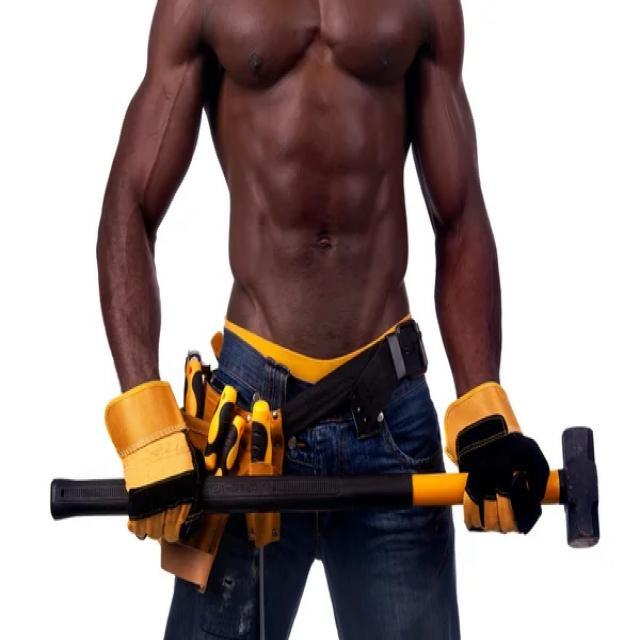hammer: (45, 412, 604, 558)
